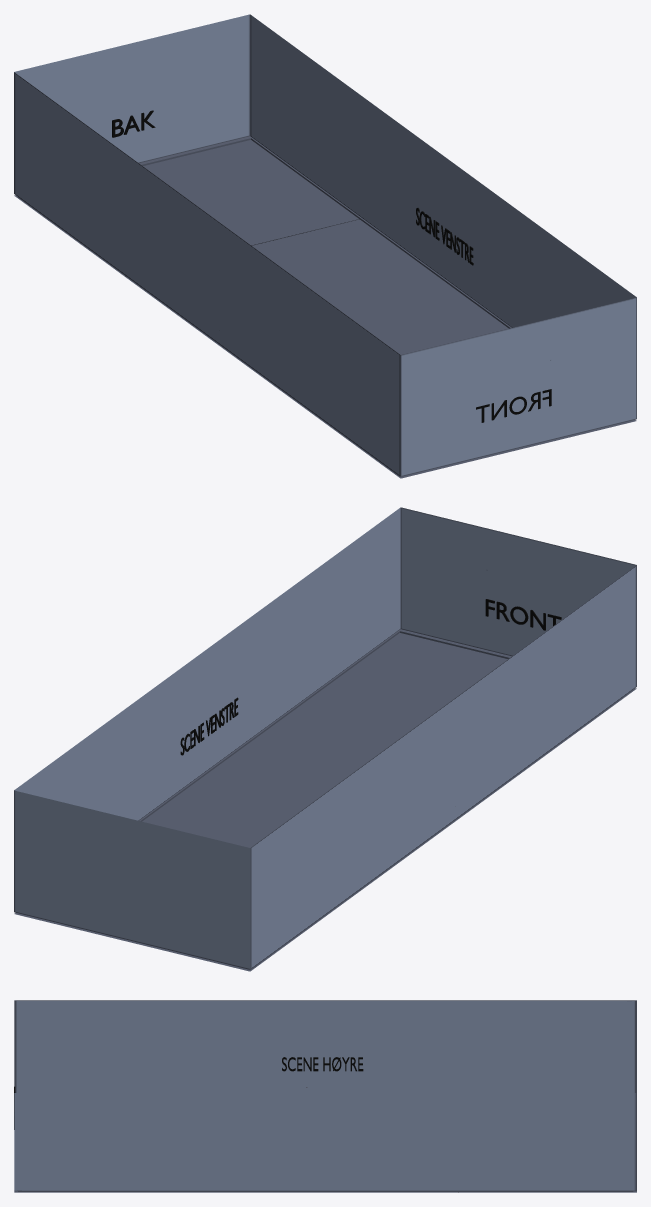
Rendered from Stage.glb.
The picture shows the model from 3 angles, top to bottom: view 1: azimuth 30°, elevation 25°; view 2: azimuth 150°, elevation 25°; view 3: azimuth 270°, elevation 25°; orthographic projection. The views are drawn at different scales.
Visible parts, largest first — view 1: Stage Box, Text Scene Venstre; view 2: Stage Box, Text Scene Venstre, Text Front; view 3: Stage Box, Text Scene Høyre.
Part boxes in pixels (x1,y1,x2,y2): Stage Box: (14,14,636,478); Text Scene Venstre: (416,208,473,265); Stage Box: (14,507,636,971); Text Scene Venstre: (180,697,238,755); Text Front: (485,599,561,630); Stage Box: (14,1000,636,1192); Text Scene Høyre: (282,1057,363,1071).
Bounding box in the file's own units: 10 × 5 × 28.37.
Materials: 2 (1 with a texture image).
